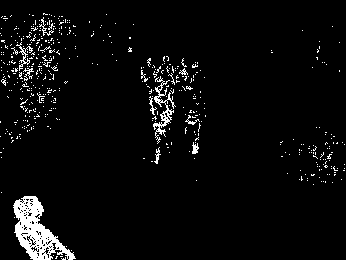person: (14, 196, 75, 260), (149, 84, 174, 163), (184, 84, 206, 154), (158, 55, 175, 85), (142, 57, 156, 86), (177, 56, 190, 82)
